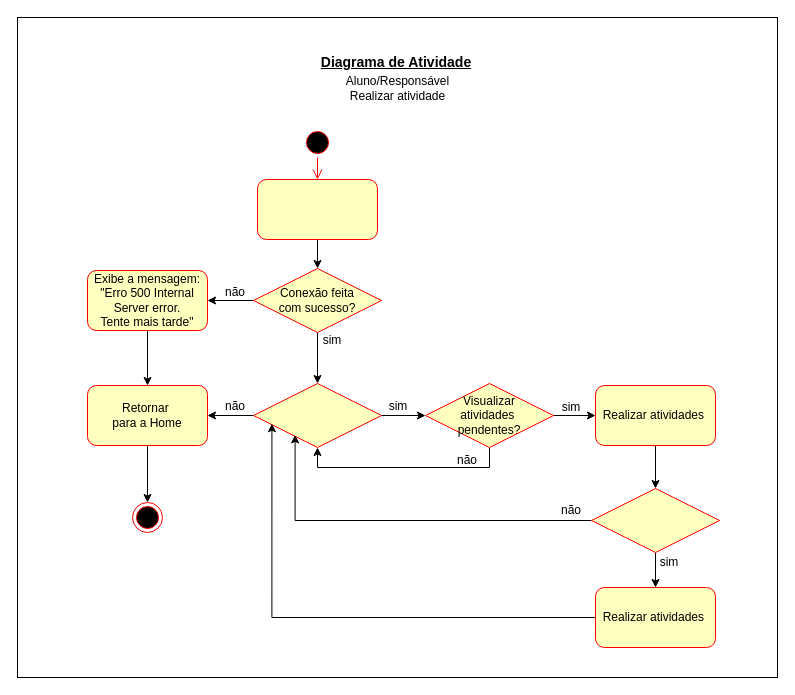
Image size: 795x695. Some labels were removed from this diagram. Each missing label, with the centre of its shape:
Navegação da pagina 'Atividades': (x=317, y=209)
Salvar atividade?: (x=655, y=520)
Visualizar atividades?: (x=317, y=415)
